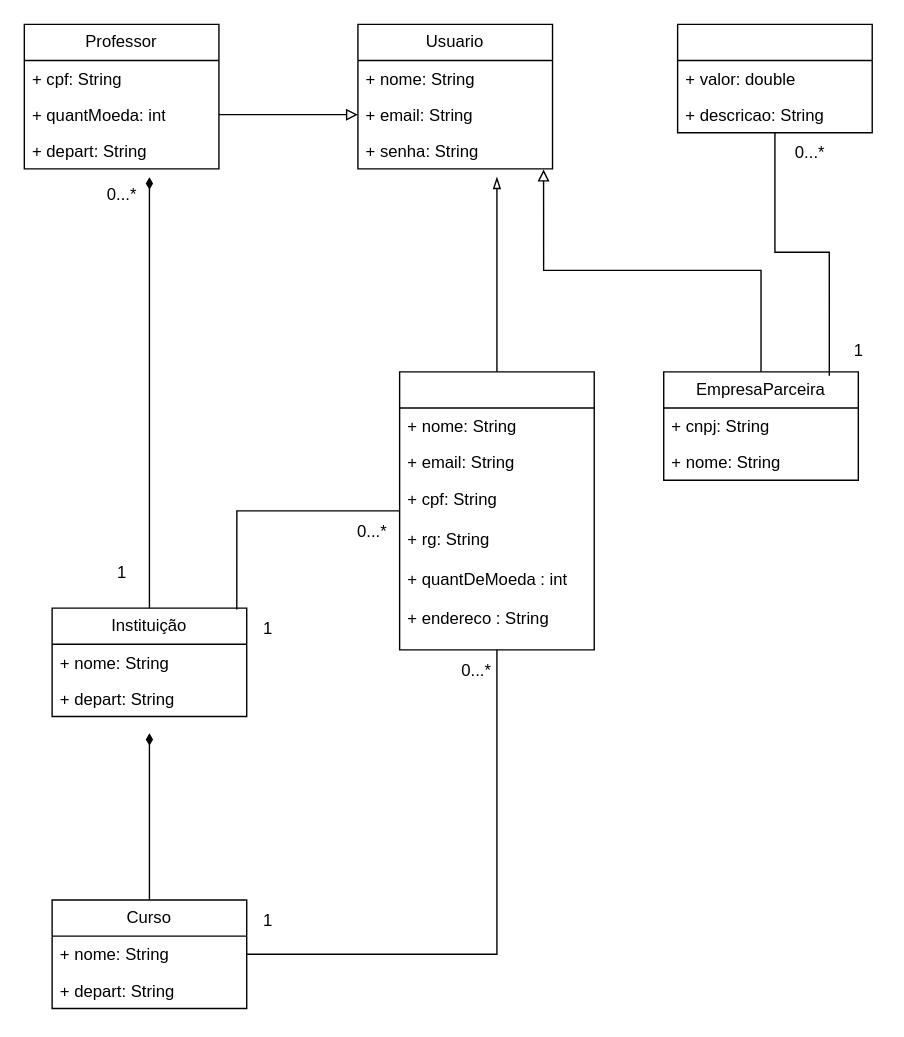
Some shapes in this 904 by 1037 pixel diagram are drawn without their labels. Each missing label, with the box of its shape:
Aluno: (398, 370, 594, 650)
Vantagem: (676, 23, 872, 133)
